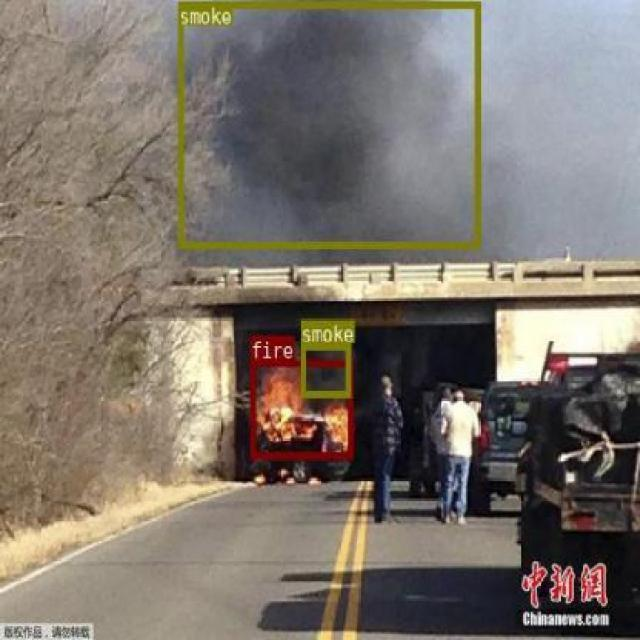Smoke: (177, 2, 479, 246), (299, 342, 350, 396)
